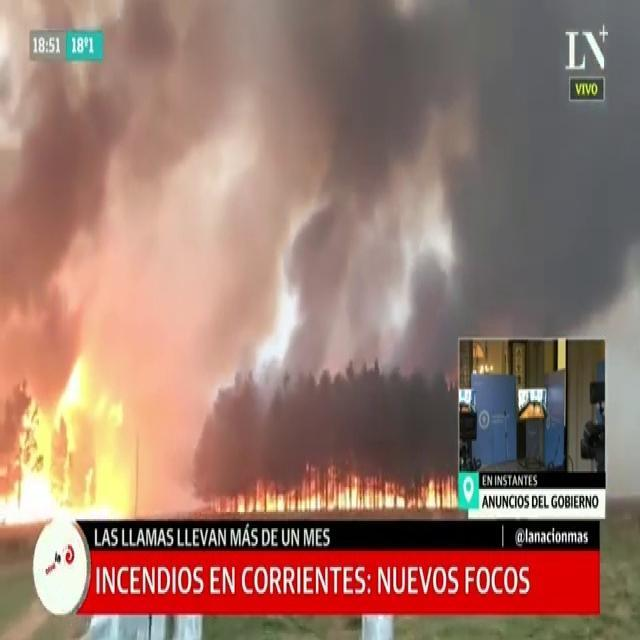Fire: (0, 333, 178, 533), (243, 474, 460, 518)
Smoke: (0, 14, 640, 373)
